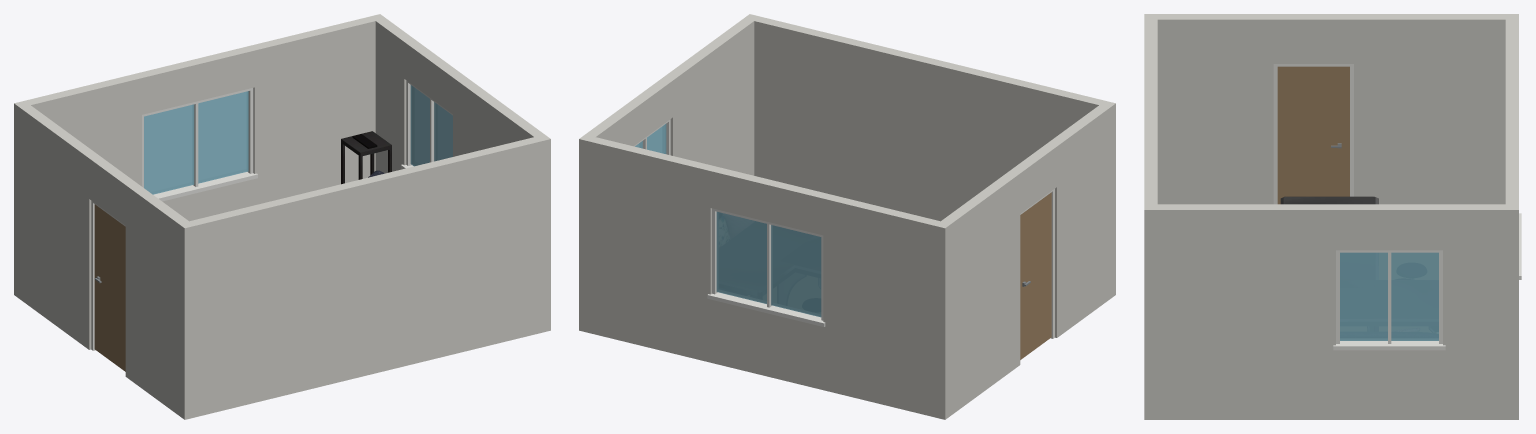
The model's file is atiss.glb.
3 renders of one model, left to right at view 1: azimuth 30°, elevation 25°; view 2: azimuth 150°, elevation 25°; view 3: azimuth 270°, elevation 25°, orthographic. The views are drawn at different scales.
Visible parts, largest first — view 1: wall|scenesmith_093__R00|0, wall|scenesmith_093__R00|1, wall|scenesmith_093__R00|2, wall|scenesmith_093__R00|3, wall|scenesmith_093__R00|1 Window 0 | glazing, wall|scenesmith_093__R00|2 Door 0 | wood leaf, wall|scenesmith_093__R00|3 Window 0 | glazing, wall|scenesmith_093__R00|1 Window 0 | jamb, raw_model, wall|scenesmith_093__R00|3 Window 0 | jamb, wall|scenesmith_093__R00|2 Door 0 | jamb; view 2: wall|scenesmith_093__R00|1, wall|scenesmith_093__R00|0, wall|scenesmith_093__R00|2, wall|scenesmith_093__R00|3, wall|scenesmith_093__R00|1 Window 0 | glazing, wall|scenesmith_093__R00|2 Door 0 | wood leaf, wall|scenesmith_093__R00|1 Window 0 | jamb, wall|scenesmith_093__R00|2 Door 0 | jamb; view 3: wall|scenesmith_093__R00|3, wall|scenesmith_093__R00|2, wall|scenesmith_093__R00|2 Door 0 | wood leaf, wall|scenesmith_093__R00|3 Window 0 | glazing, wall|scenesmith_093__R00|0, wall|scenesmith_093__R00|1, wall|scenesmith_093__R00|3 Window 0 | jamb, wall|scenesmith_093__R00|2 Door 0 | jamb, raw_model.005.
Boxes of the visible parts, x1,y1,x2,y2 form: wall|scenesmith_093__R00|0: (184, 134, 550, 419); wall|scenesmith_093__R00|1: (25, 16, 375, 221); wall|scenesmith_093__R00|2: (14, 101, 195, 419); wall|scenesmith_093__R00|3: (370, 14, 550, 332); wall|scenesmith_093__R00|1 Window 0 | glazing: (144, 91, 248, 194); wall|scenesmith_093__R00|2 Door 0 | wood leaf: (94, 204, 125, 371); wall|scenesmith_093__R00|3 Window 0 | glazing: (410, 85, 452, 166); wall|scenesmith_093__R00|1 Window 0 | jamb: (142, 88, 257, 201); raw_model: (341, 131, 391, 184); wall|scenesmith_093__R00|3 Window 0 | jamb: (401, 80, 452, 169); wall|scenesmith_093__R00|2 Door 0 | jamb: (91, 201, 125, 350); wall|scenesmith_093__R00|1: (589, 137, 939, 417); wall|scenesmith_093__R00|0: (744, 14, 1104, 221); wall|scenesmith_093__R00|2: (934, 101, 1115, 419); wall|scenesmith_093__R00|3: (579, 15, 754, 332); wall|scenesmith_093__R00|1 Window 0 | glazing: (716, 211, 821, 317); wall|scenesmith_093__R00|2 Door 0 | wood leaf: (1020, 192, 1051, 359); wall|scenesmith_093__R00|1 Window 0 | jamb: (707, 208, 825, 326); wall|scenesmith_093__R00|2 Door 0 | jamb: (1020, 189, 1054, 338); wall|scenesmith_093__R00|3: (1149, 204, 1518, 419); wall|scenesmith_093__R00|2: (1144, 14, 1518, 204); wall|scenesmith_093__R00|2 Door 0 | wood leaf: (1277, 66, 1349, 204); wall|scenesmith_093__R00|3 Window 0 | glazing: (1340, 252, 1438, 340); wall|scenesmith_093__R00|0: (1144, 19, 1157, 419); wall|scenesmith_093__R00|1: (1505, 19, 1518, 419); wall|scenesmith_093__R00|3 Window 0 | jamb: (1333, 250, 1445, 350); wall|scenesmith_093__R00|2 Door 0 | jamb: (1273, 64, 1353, 204); raw_model.005: (1280, 196, 1378, 204).
Size of the model in its own units: 5.23 by 2.61 by 4.23.
10 materials, 4 textured.
